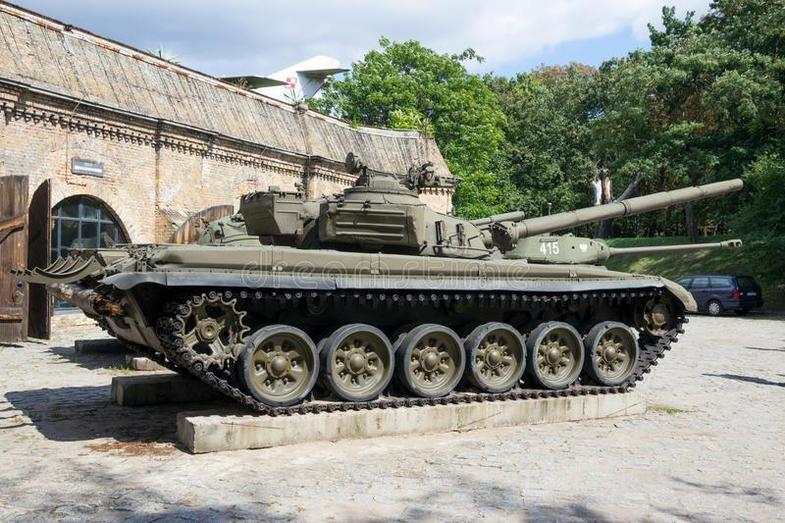t72: (116, 174, 718, 390)
